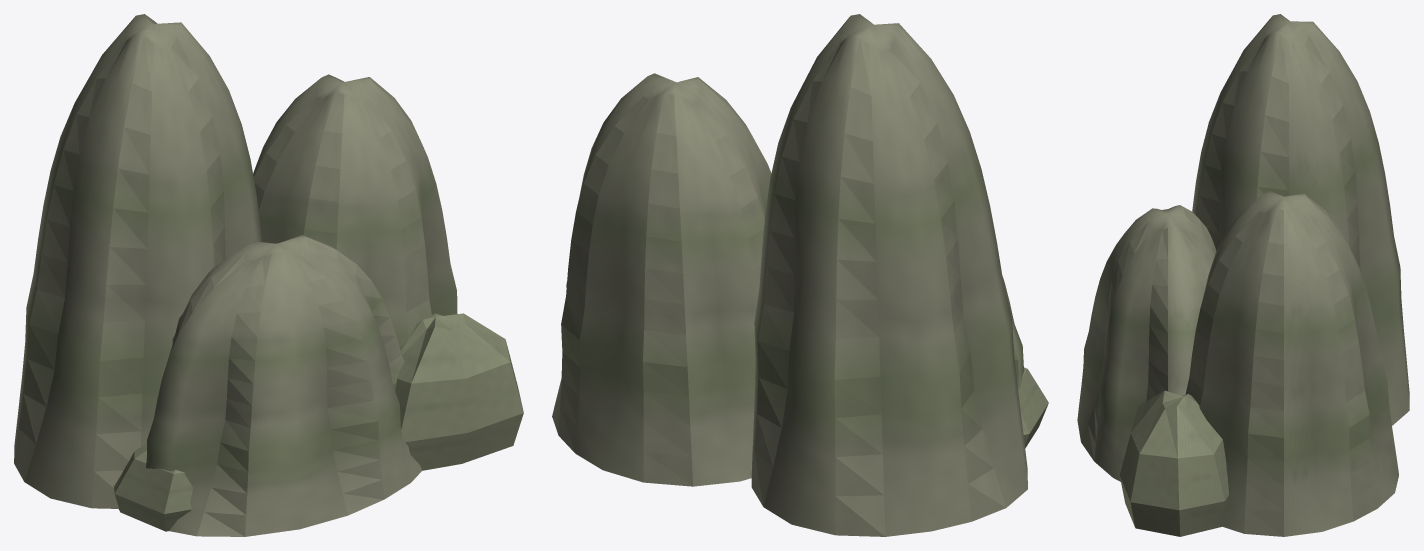
Rendered from cliff-karst-lod0.glb.
The picture shows the model from 3 angles, left to right: view 1: azimuth 30°, elevation 25°; view 2: azimuth 150°, elevation 25°; view 3: azimuth 270°, elevation 25°; orthographic projection. The views are drawn at different scales.
Size of the model in its own units: 0.4773 by 0.45 by 0.3519.
Materials: 1 (1 with a texture image).
